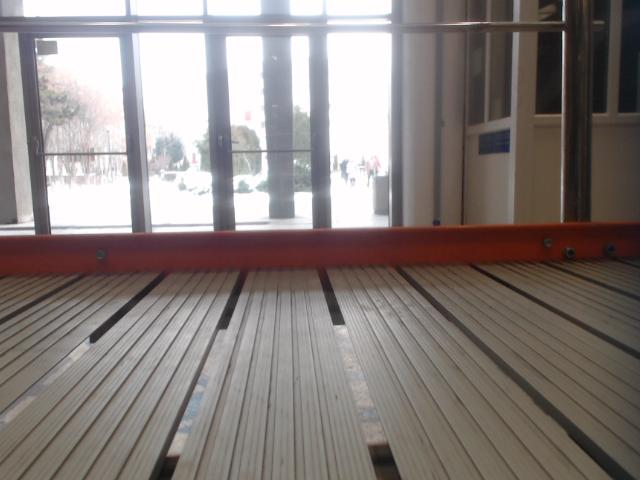rampDown: (0, 220, 639, 479)
ramps-railing: (0, 2, 595, 221)
